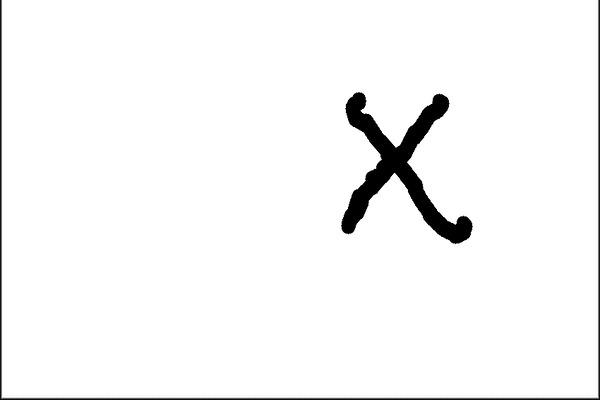X: (308, 74, 497, 264)
